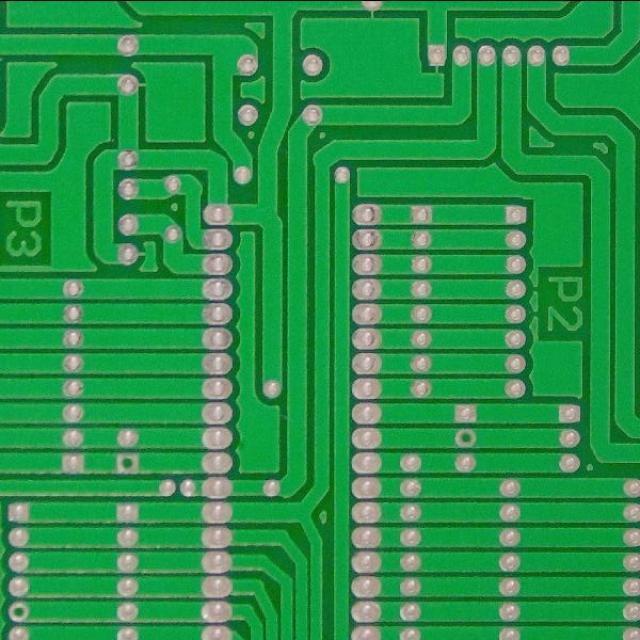missing_hole: (4, 599, 31, 622), (452, 425, 478, 448), (116, 450, 139, 472)
